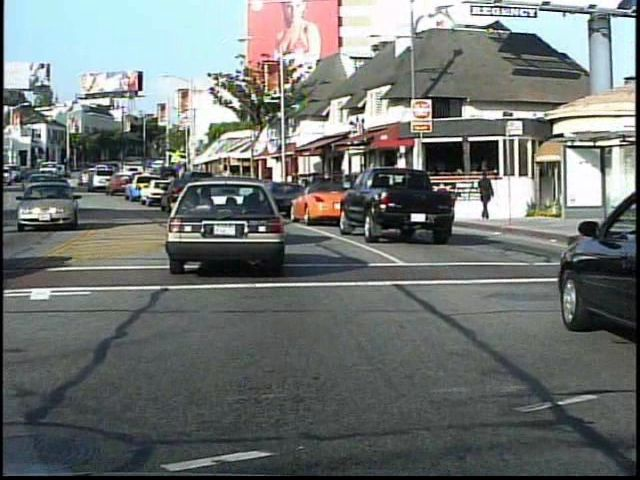person: (476, 169, 496, 224)
